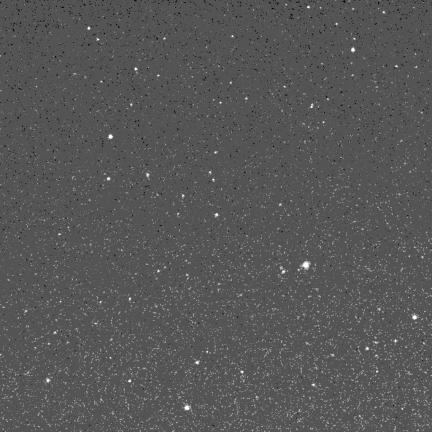blob: (303, 262, 311, 269), (185, 405, 190, 410), (146, 173, 150, 179), (413, 315, 417, 320), (46, 378, 50, 383), (195, 361, 200, 365), (108, 135, 113, 139), (351, 47, 355, 52), (383, 11, 387, 15), (128, 379, 132, 383), (214, 151, 219, 154), (135, 67, 138, 72), (395, 65, 399, 68), (209, 171, 212, 175), (130, 103, 133, 107), (241, 371, 244, 375), (312, 384, 316, 387), (129, 297, 132, 301), (307, 6, 311, 9), (366, 347, 369, 350), (107, 177, 110, 180), (88, 27, 91, 30), (215, 214, 218, 217), (336, 23, 339, 26)
